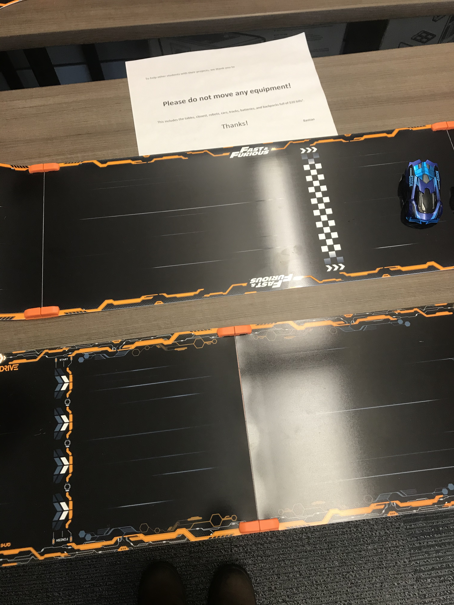Finish Line: (298, 146, 350, 271)
Shock: (403, 158, 442, 226)
